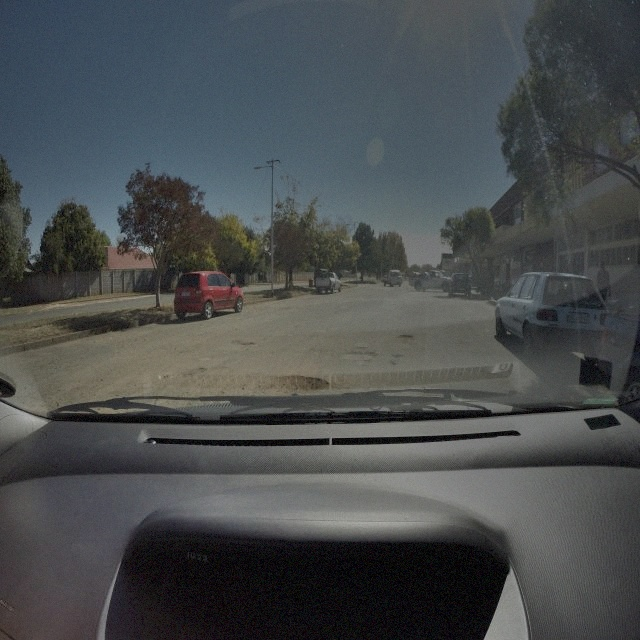pothole: (259, 370, 333, 401), (183, 364, 208, 377), (396, 333, 414, 343), (347, 348, 363, 356), (365, 350, 378, 358), (240, 341, 256, 346), (392, 353, 404, 359)
